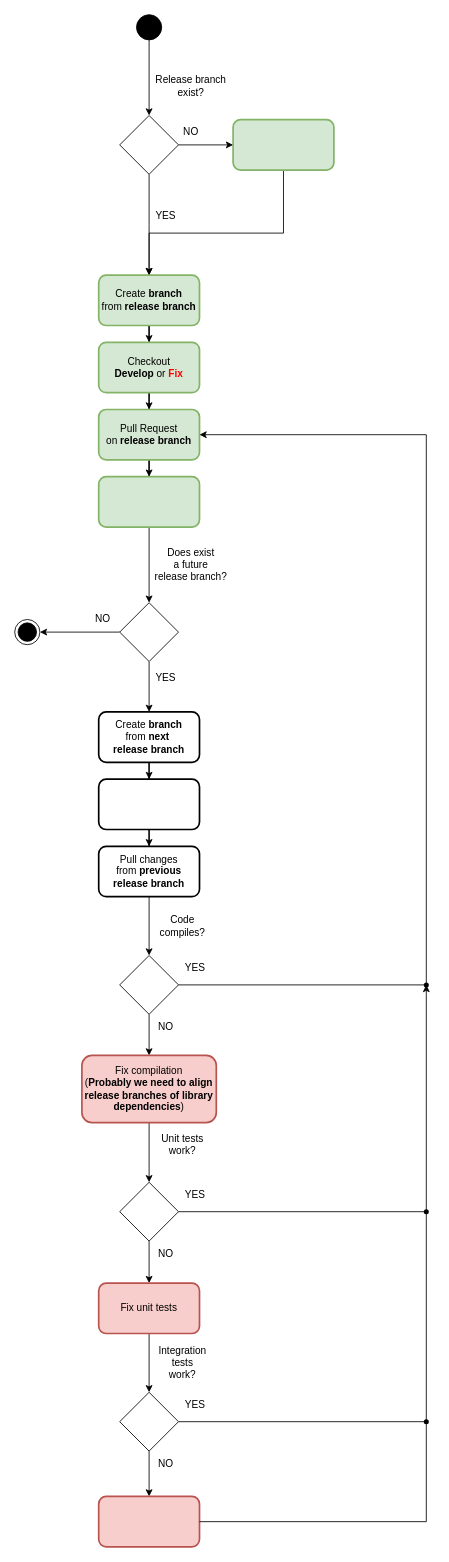
This 449x1562 diagram has some shape labels left out. The shapes that lost their labels are listed below. From the top down, each one's centre as x and y in pixels, then its label:
the point at 283,144: Create release branch
the point at 148,501: Merge Pull Request
the point at 148,804: Checkout
the point at 148,1521: Fix mocks and integration tests
